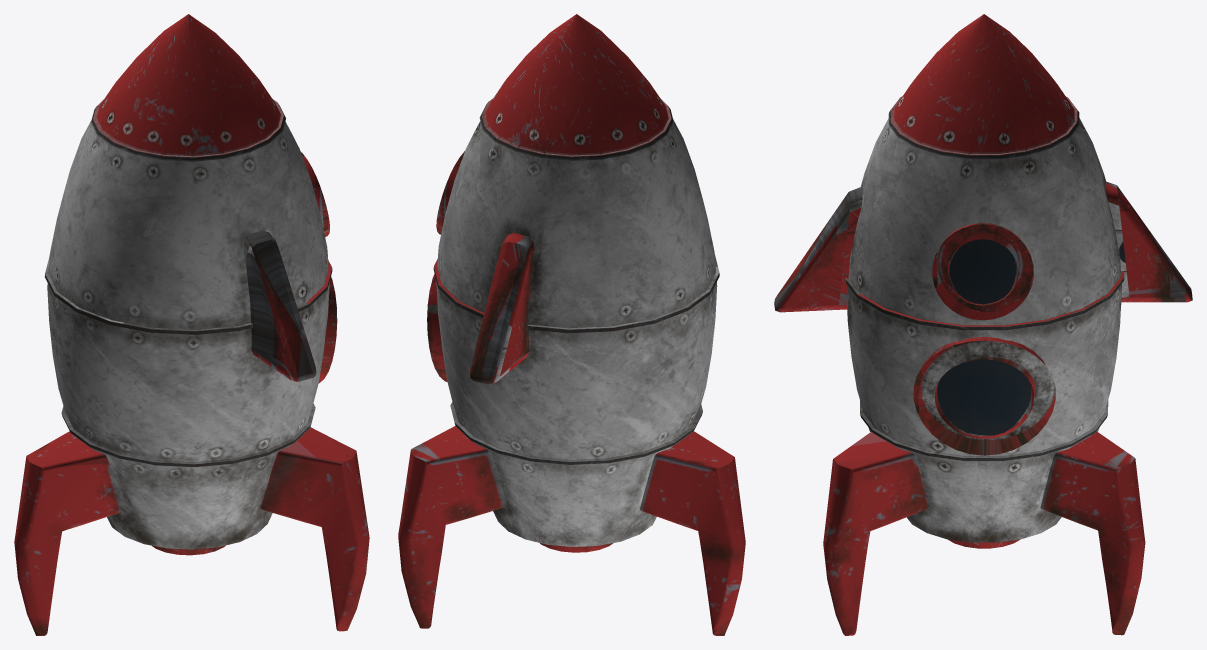
Rendered from rocket_test_1.fbx.
The picture shows the model from 3 angles, left to right: view 1: azimuth 30°, elevation 25°; view 2: azimuth 150°, elevation 25°; view 3: azimuth 270°, elevation 25°; orthographic projection.
Parts seen in each view (by area): view 1: Wing_left.002; view 2: Wing_left.002; view 3: Wing_left.002.
Part boxes in pixels (x1,y1,x2,y2): Wing_left.002: (14,14,369,635); Wing_left.002: (398,14,745,635); Wing_left.002: (774,14,1192,635).
Size of the model in its own units: 218 by 411 by 269.
